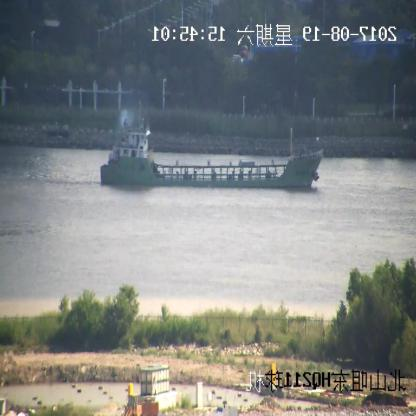Bulk Carrier: (101, 103, 323, 186)
